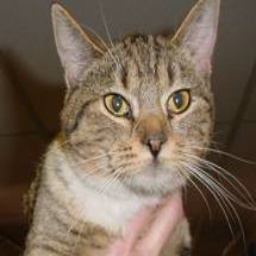cat: (22, 2, 226, 256)
